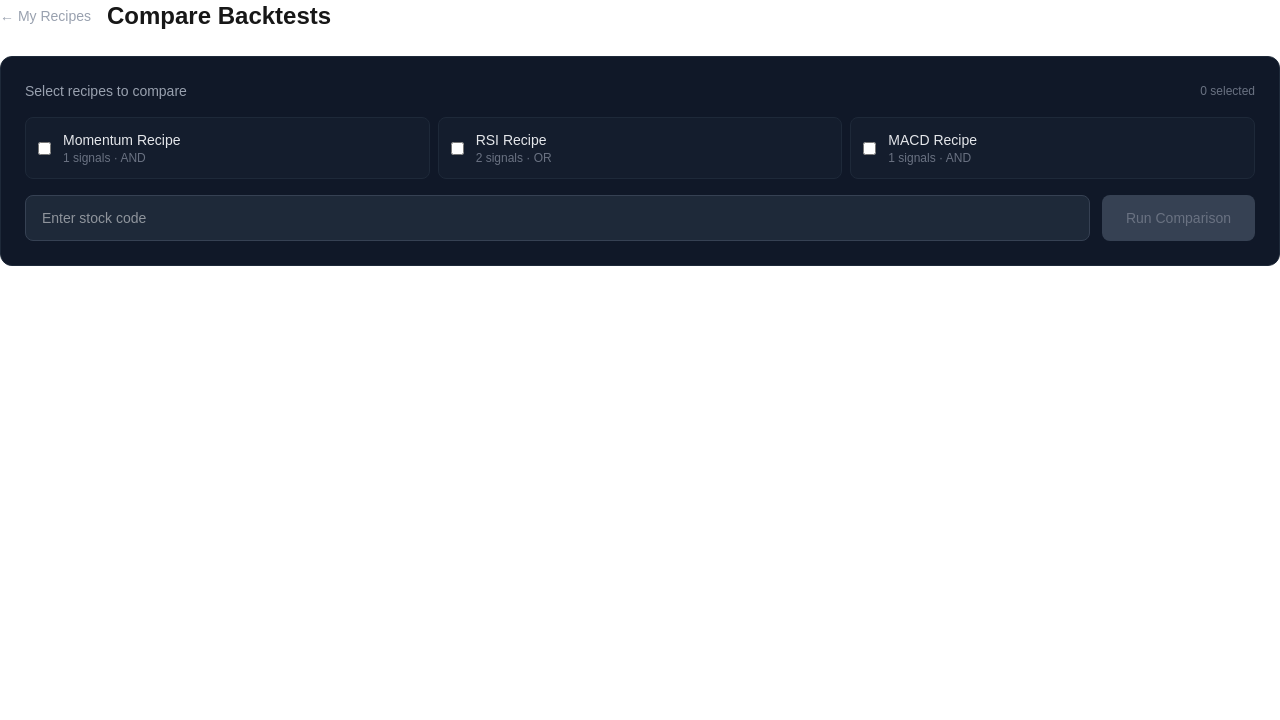
RecipeComparePage › runs comparison and shows ranking
This screenshot has width=1280, height=720.
Expected: the text "Momentum Recipe" is shown, left=63, top=132, right=180, bottom=148
Click the checkbox labelled "Momentum Recipe 1 signals · AND": (44, 148) left=38, top=142, right=51, bottom=154
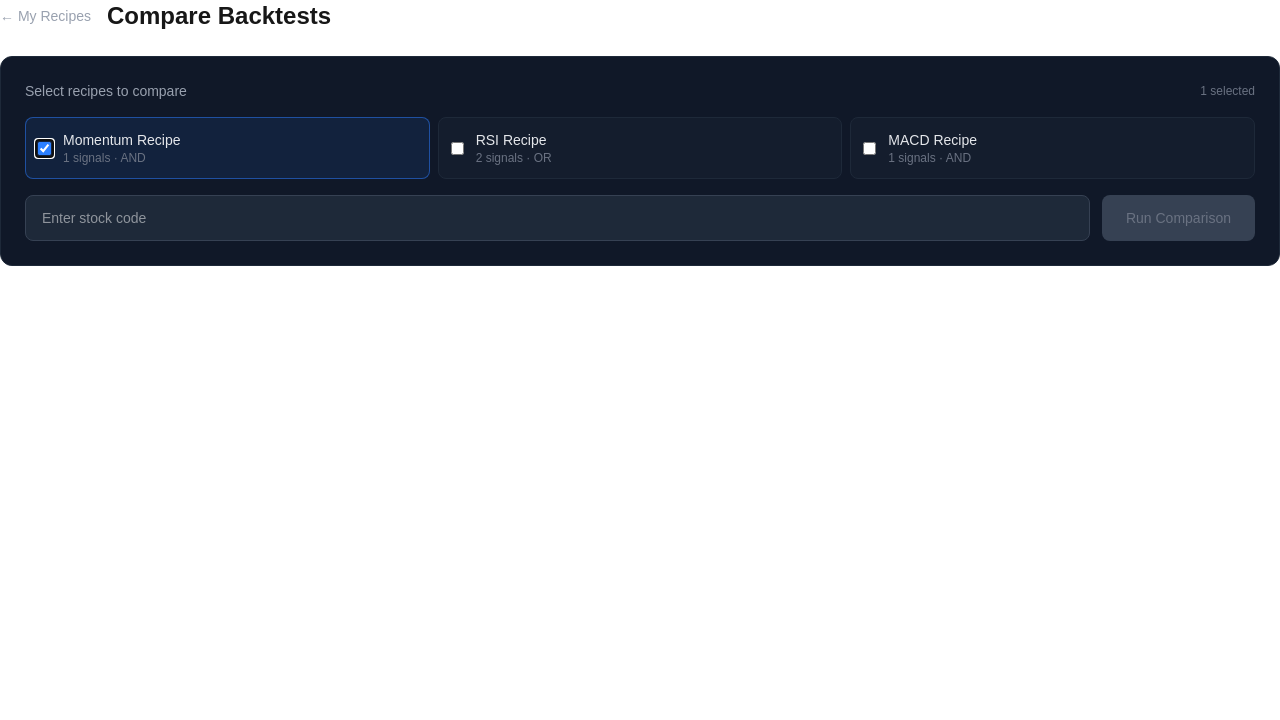
Click the checkbox labelled "RSI Recipe 2 signals · OR": (457, 148) left=451, top=142, right=464, bottom=154
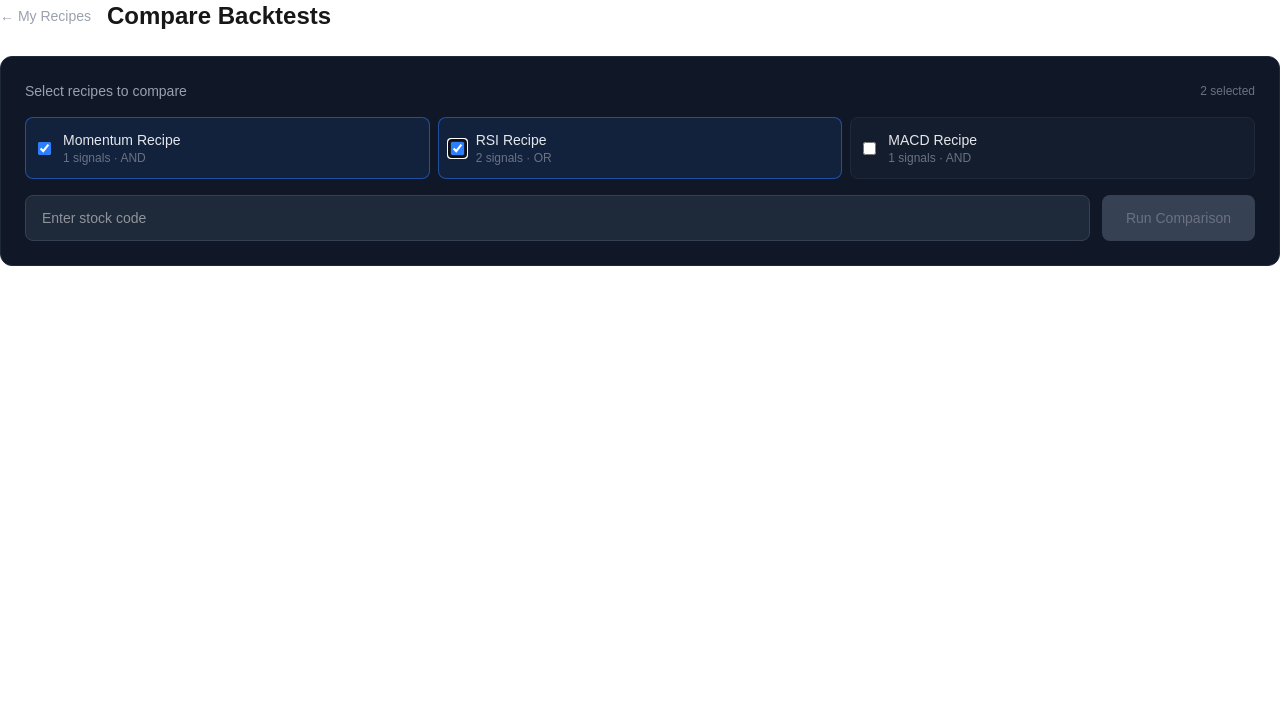
In the field with placeholder "Enter stock code": (557, 218) left=25, top=195, right=1090, bottom=241, type "005930"
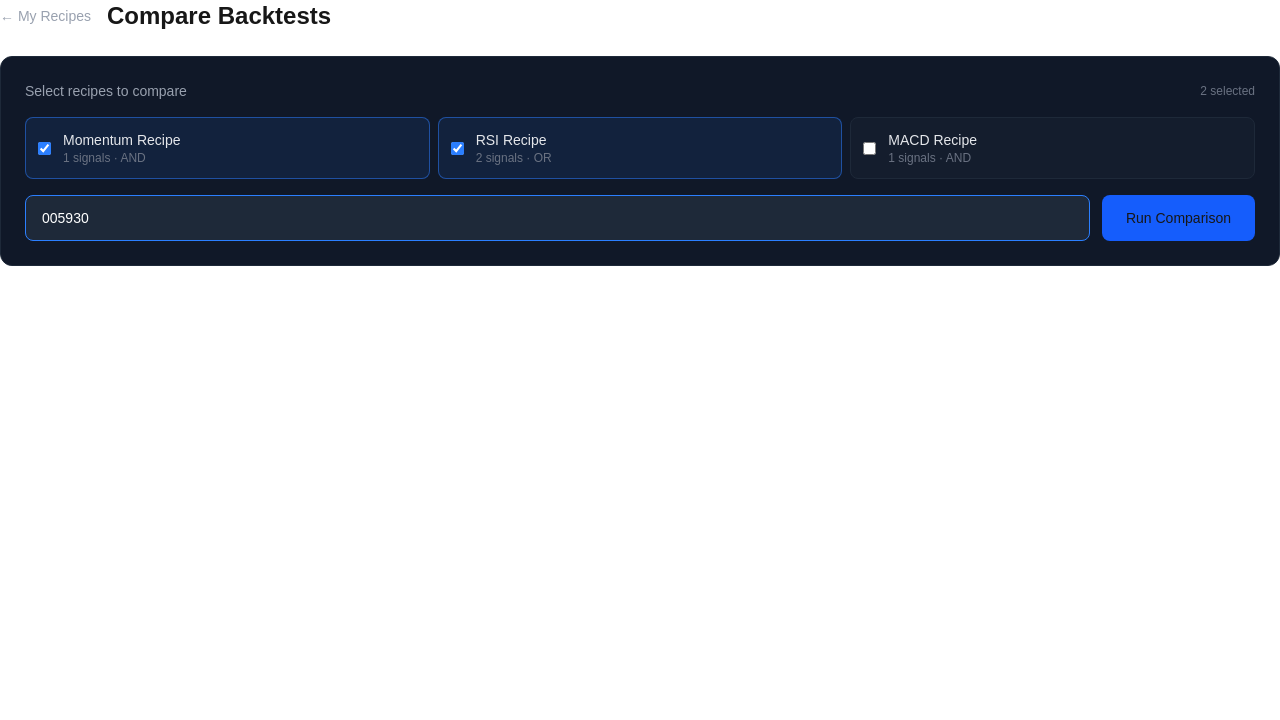
Result: the button "Run Comparison" is enabled
Click the button "Run Comparison": (1178, 218) left=1102, top=195, right=1255, bottom=241
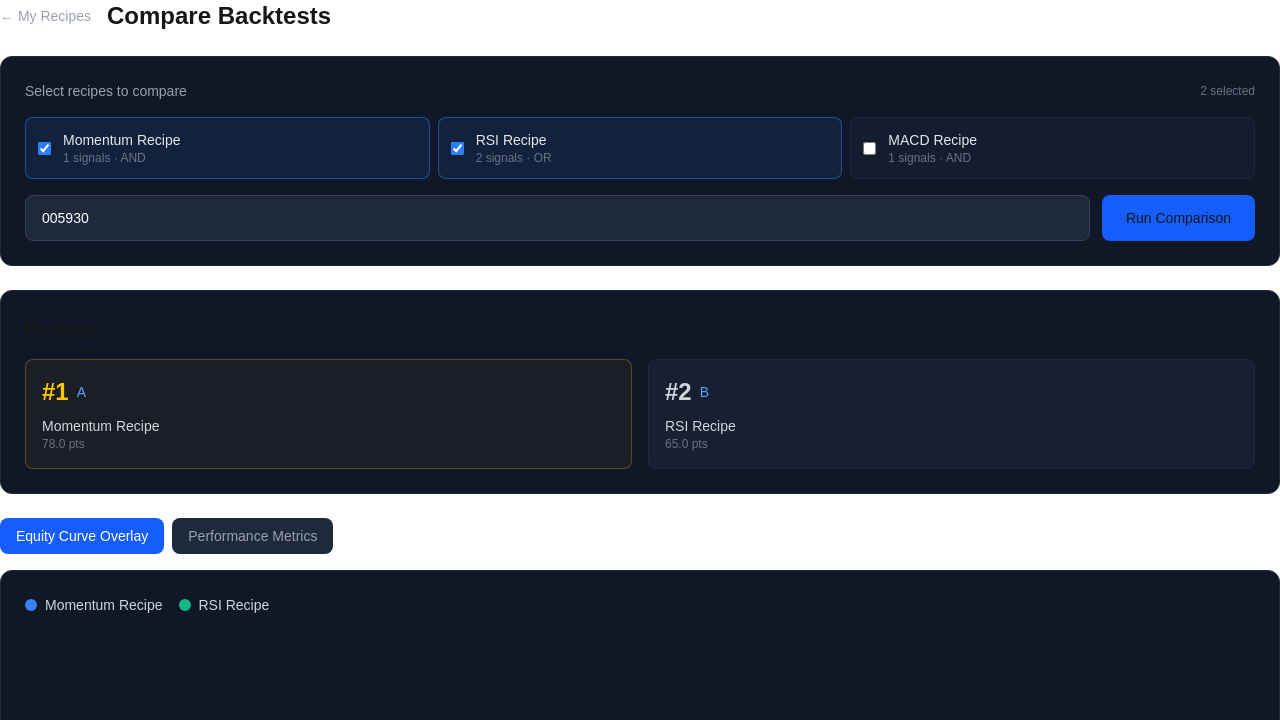
Result: the text "#1" is shown at left=42, top=376, right=69, bottom=408
Result: the text "#2" is shown at left=665, top=376, right=692, bottom=408
